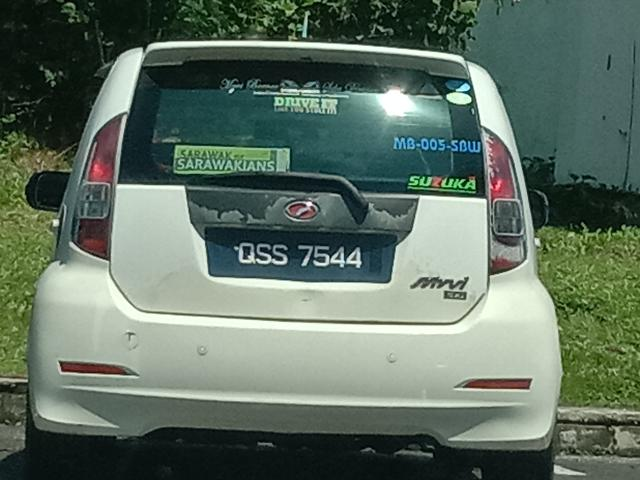License_Plate: (205, 229, 400, 285)
car: (20, 34, 569, 480)
